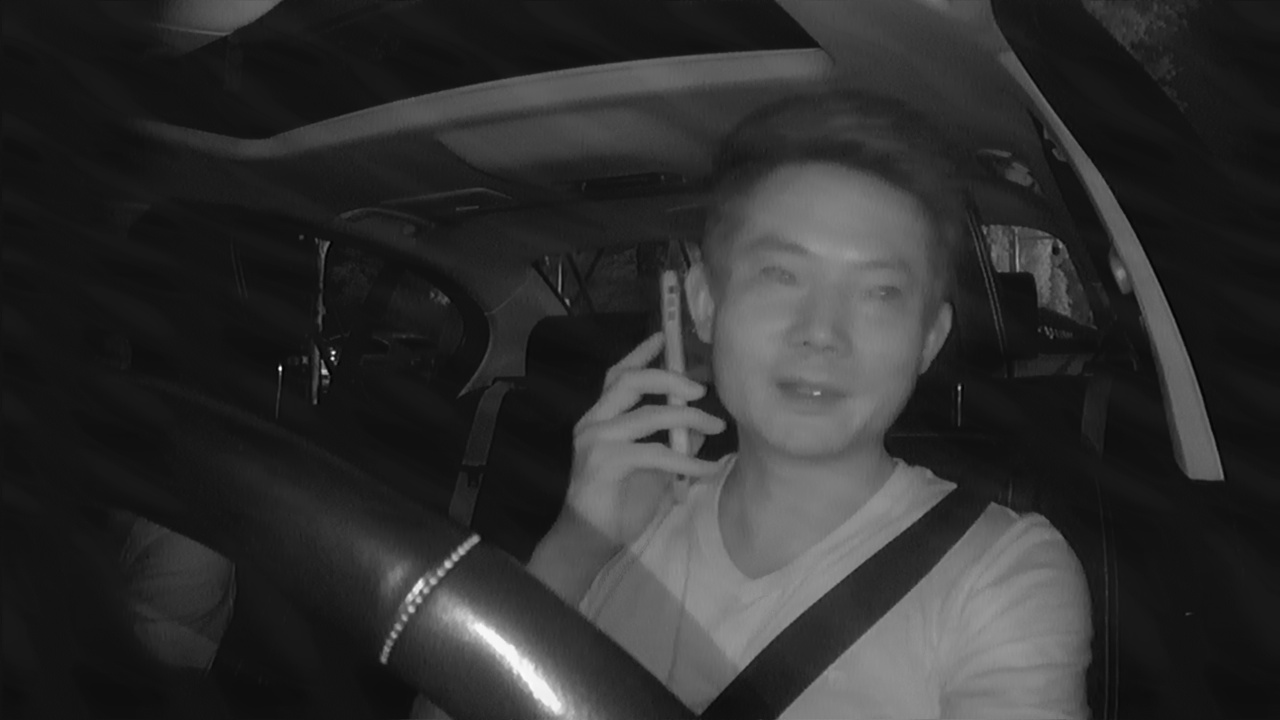hand: (562, 338, 721, 549)
